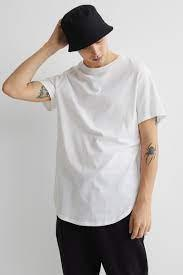Tshirt: (40, 50, 168, 227)
